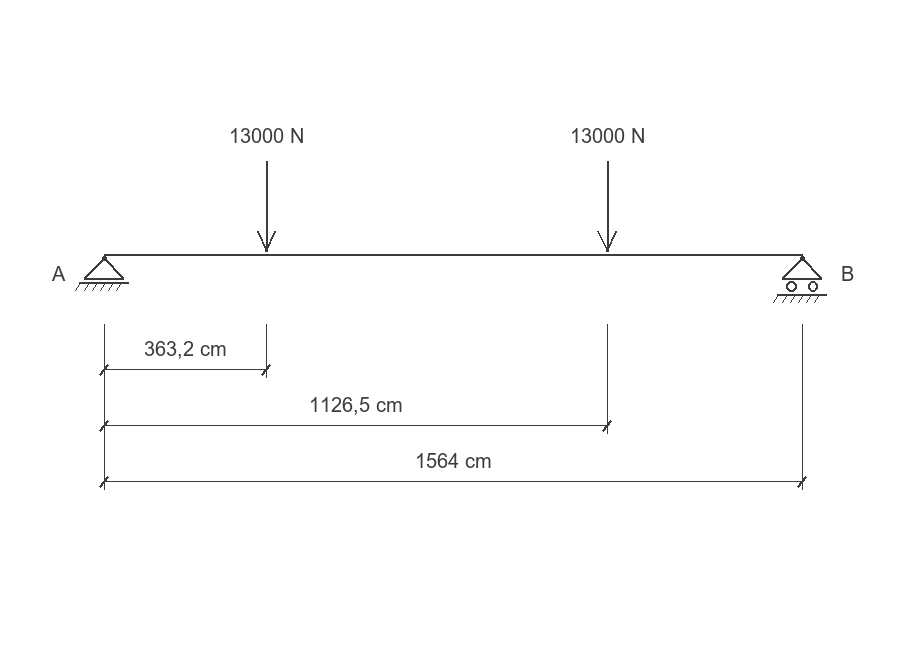pin_support: (75, 256, 129, 291)
point_load: (597, 161, 617, 252), (257, 161, 276, 252)
roller_support: (773, 256, 827, 303)
